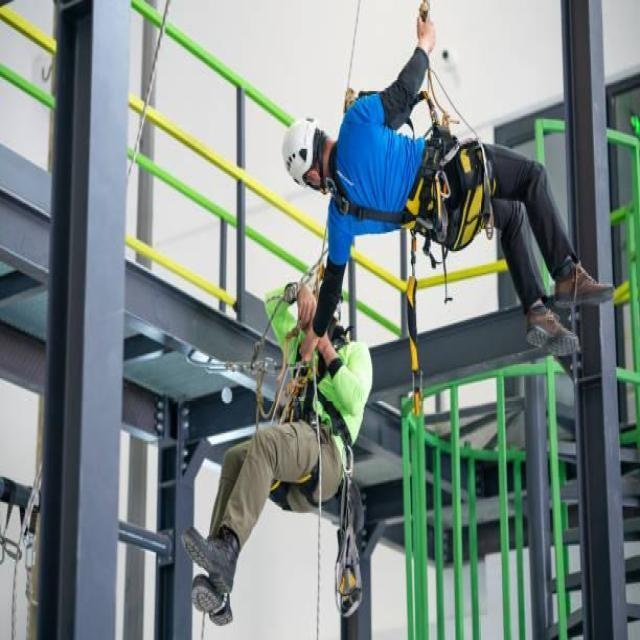Arnes_seguridad: (268, 334, 371, 517), (334, 121, 443, 235)
